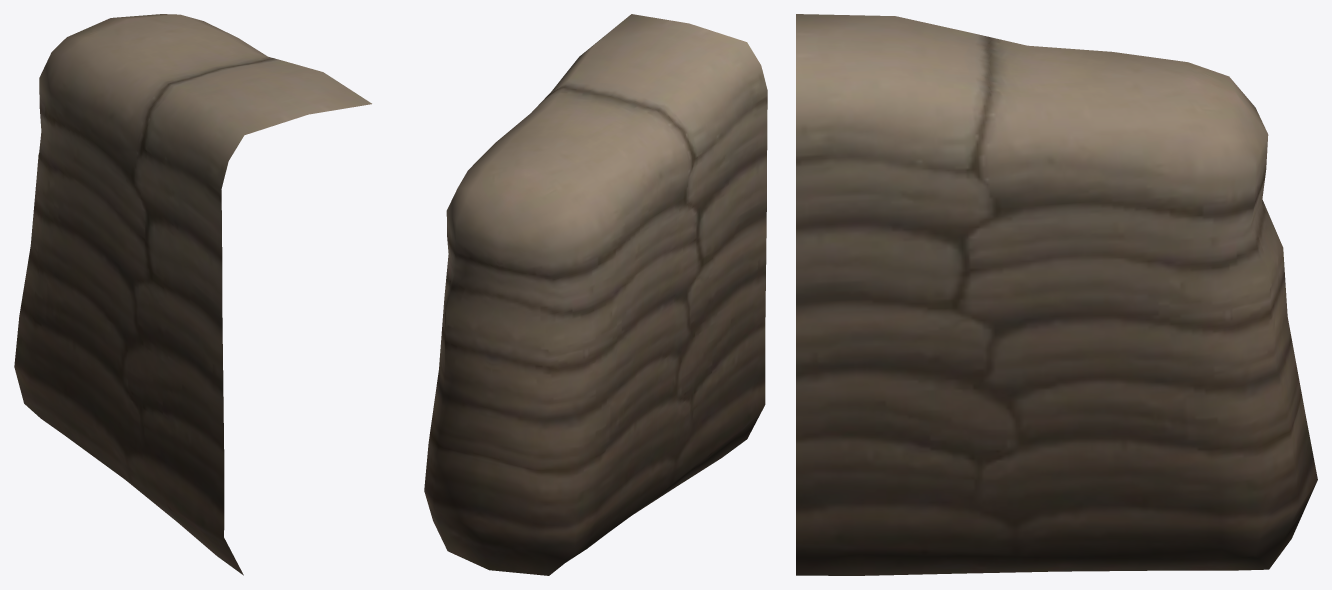
The picture shows the model from 3 angles, left to right: view 1: azimuth 30°, elevation 25°; view 2: azimuth 150°, elevation 25°; view 3: azimuth 270°, elevation 25°; orthographic projection. The views are drawn at different scales.
Parts seen in each view (by area): view 1: body0_model0_lod0_mesh0; view 2: body0_model0_lod0_mesh0; view 3: body0_model0_lod0_mesh0.
Part boxes in pixels (x1,y1,x2,y2): body0_model0_lod0_mesh0: (14,14,371,575); body0_model0_lod0_mesh0: (424,14,767,575); body0_model0_lod0_mesh0: (796,14,1317,575).
Size of the model in its own units: 25.45 by 61.6 by 58.15.
1 material, 1 textured.
